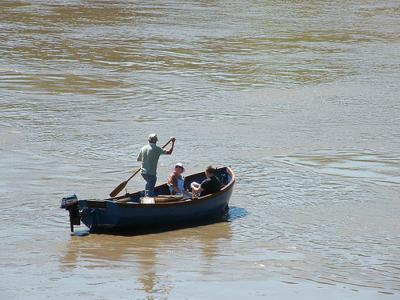person: (136, 134, 175, 197)
